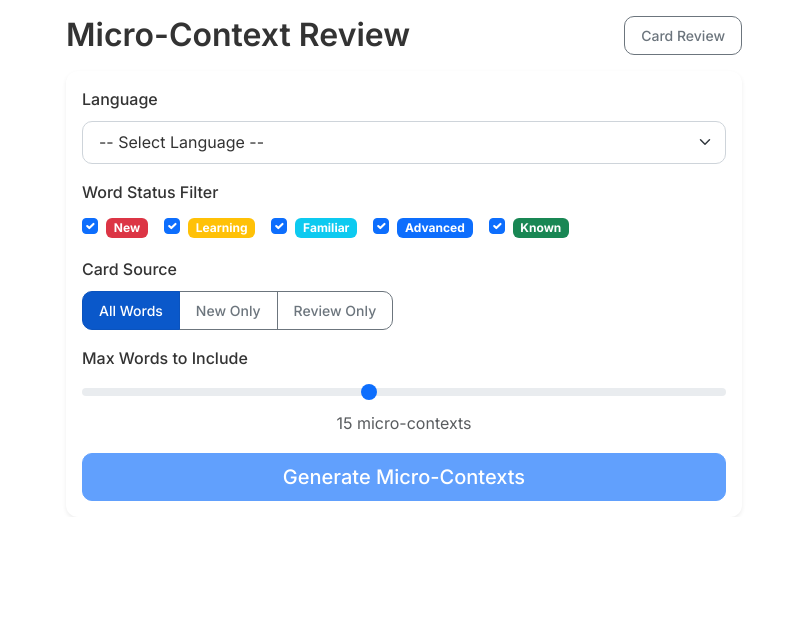
Test: SrsStoryReview (micro-contexts) › notes a card that became a leech
Select "Spanish" in the dropdown labelled "Language" at (404, 142), box top-left (82, 121), bottom-right (726, 164)
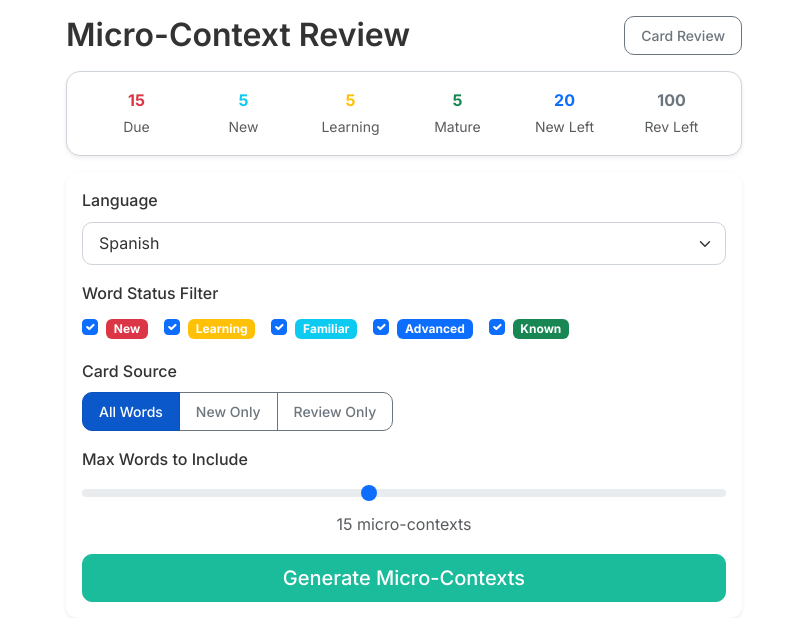
Click the button "Generate Micro-Contexts" at (404, 578), box top-left (82, 554), bottom-right (726, 602)
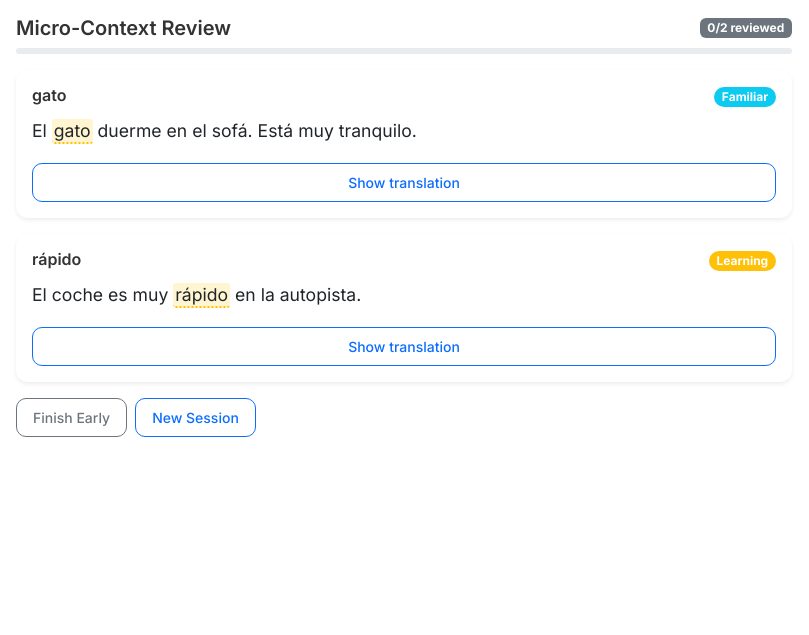
Click the button with test id "srs-microcontext-reveal" below "Familiar" at (404, 182), box top-left (32, 163), bottom-right (776, 202)
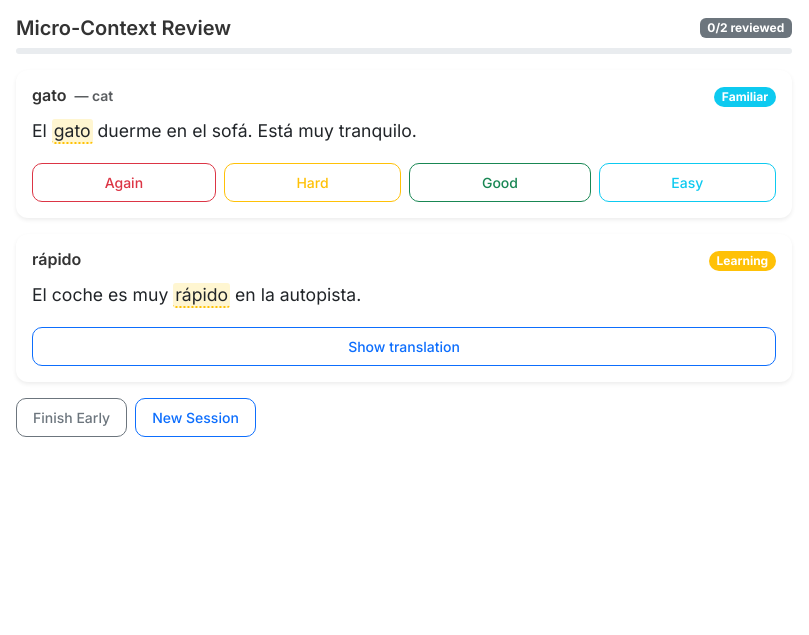
Click the button "Again" at (124, 182), box top-left (32, 163), bottom-right (216, 202)
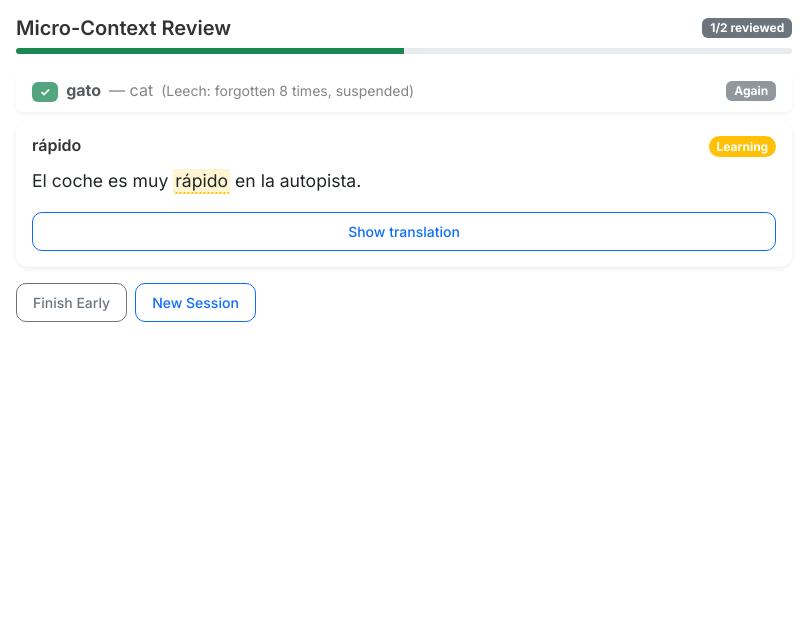
Now the text with test id "srs-microcontext-note" reads "(Leech: forgotten 8 times, suspended)", box top-left (166, 82), bottom-right (409, 99)
